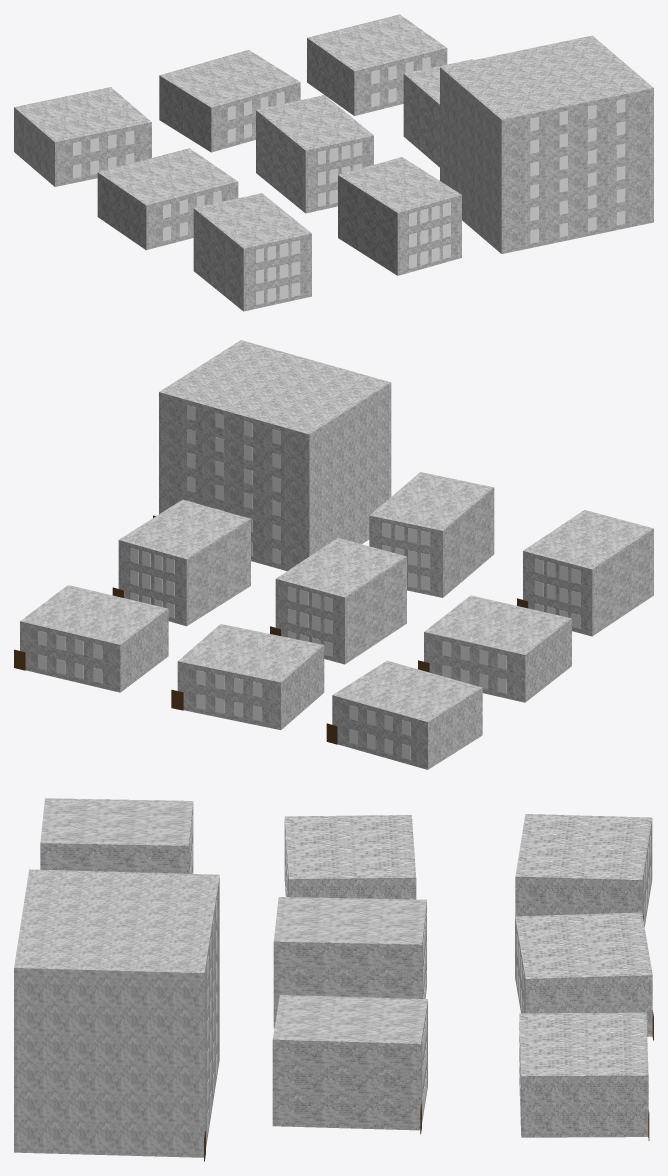
File: bld_mlnevar1_exwx2zy.glb
3 renders of one model, top to bottom at view 1: azimuth 30°, elevation 25°; view 2: azimuth 150°, elevation 25°; view 3: azimuth 270°, elevation 25°, orthographic. The views are drawn at different scales.
Visible parts, largest first — view 1: building-building-1771139478105-18, building-building-1771139478105-17, building-building-1771139478105-16, building-building-1771139478105-6, building-building-1771139478105-12, building-building-1771139478105-7, building-building-1771139478105-8, building-building-1771139478105-11, building-building-1771139478105-13; view 2: building-building-1771139478105-18, building-building-1771139478105-13, building-building-1771139478105-6, building-building-1771139478105-12, building-building-1771139478105-16, building-building-1771139478105-8, building-building-1771139478105-7, building-building-1771139478105-11, building-building-1771139478105-17; view 3: building-building-1771139478105-18, building-building-1771139478105-13, building-building-1771139478105-8, building-building-1771139478105-12, building-building-1771139478105-7, building-building-1771139478105-6, building-building-1771139478105-16, building-building-1771139478105-11.
Boxes of the visible parts, x1=… form: building-building-1771139478105-18: x1=440, y1=35, x2=653, y2=253; building-building-1771139478105-17: x1=338, y1=157, x2=461, y2=275; building-building-1771139478105-16: x1=193, y1=193, x2=311, y2=311; building-building-1771139478105-6: x1=14, y1=87, x2=151, y2=186; building-building-1771139478105-12: x1=256, y1=95, x2=373, y2=213; building-building-1771139478105-7: x1=159, y1=50, x2=300, y2=152; building-building-1771139478105-8: x1=307, y1=14, x2=447, y2=115; building-building-1771139478105-11: x1=97, y1=148, x2=238, y2=250; building-building-1771139478105-13: x1=403, y1=59, x2=473, y2=167; building-building-1771139478105-18: x1=153, y1=340, x2=391, y2=570; building-building-1771139478105-13: x1=112, y1=499, x2=250, y2=626; building-building-1771139478105-6: x1=326, y1=660, x2=482, y2=769; building-building-1771139478105-12: x1=270, y1=538, x2=406, y2=664; building-building-1771139478105-16: x1=517, y1=510, x2=653, y2=636; building-building-1771139478105-8: x1=14, y1=585, x2=168, y2=692; building-building-1771139478105-7: x1=171, y1=624, x2=324, y2=729; building-building-1771139478105-11: x1=418, y1=595, x2=571, y2=702; building-building-1771139478105-17: x1=369, y1=472, x2=494, y2=597; building-building-1771139478105-18: x1=14, y1=869, x2=219, y2=1161; building-building-1771139478105-13: x1=272, y1=995, x2=427, y2=1134; building-building-1771139478105-8: x1=519, y1=1012, x2=649, y2=1140; building-building-1771139478105-12: x1=273, y1=897, x2=426, y2=1028; building-building-1771139478105-7: x1=515, y1=912, x2=653, y2=1040; building-building-1771139478105-6: x1=515, y1=814, x2=652, y2=926; building-building-1771139478105-16: x1=40, y1=798, x2=193, y2=873; building-building-1771139478105-11: x1=284, y1=815, x2=416, y2=899.
Bounding box in the file's own units: 63.75 × 19.23 × 60.3.
45 materials, 9 textured.
